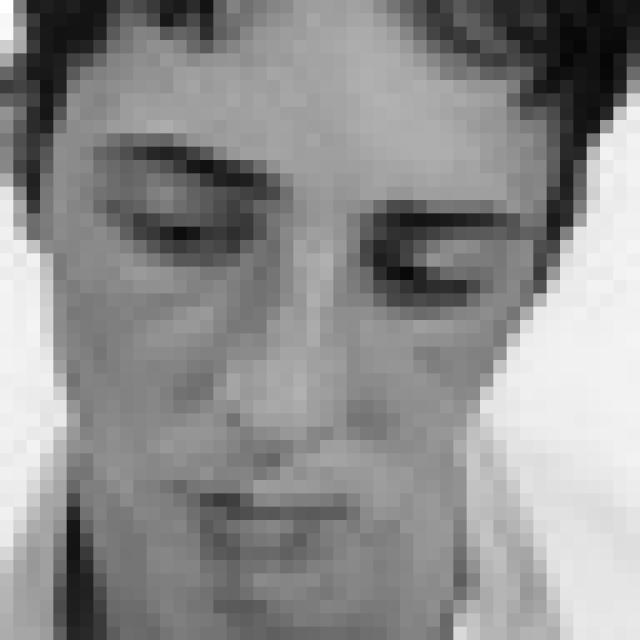sad: (77, 128, 542, 554)
